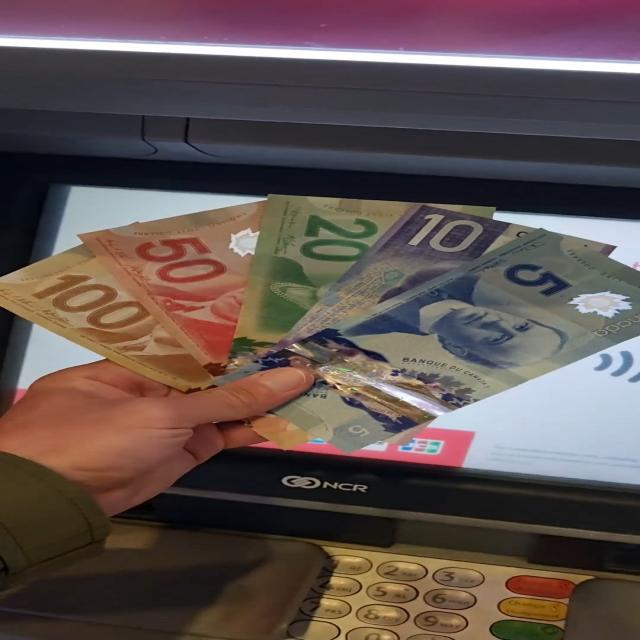10 cad: (281, 207, 551, 348)
100 cad: (0, 245, 215, 395)
20 cad: (224, 194, 419, 366)
5 cad: (273, 229, 640, 453)
50 cad: (76, 201, 264, 371)
